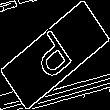P_SE: (28, 24, 82, 86)
